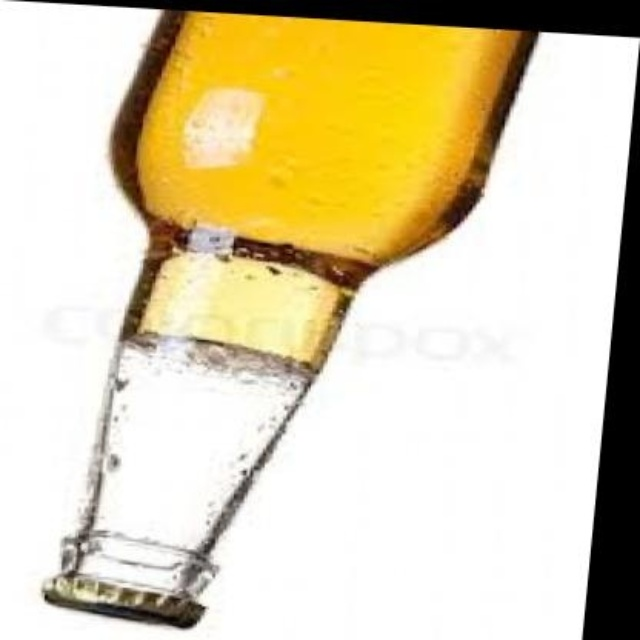trash: (43, 12, 535, 626)
